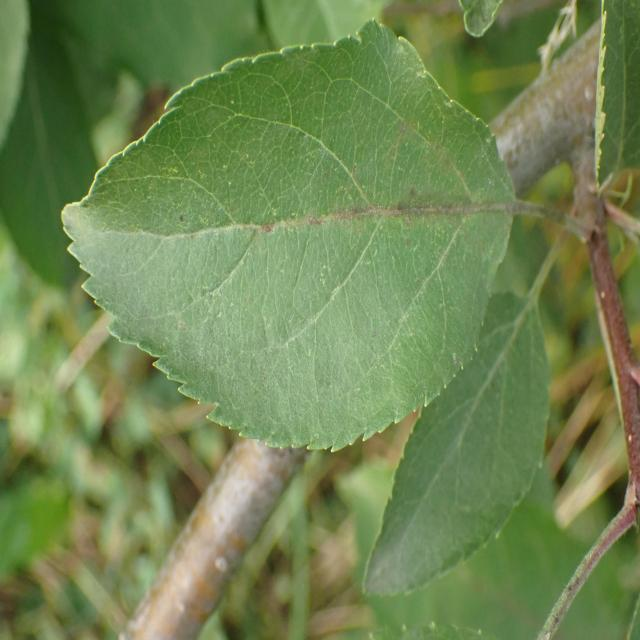scab: (148, 47, 524, 404)
